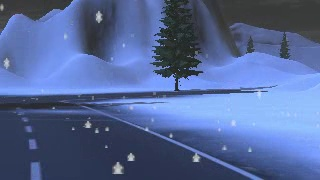Lane: (0, 89, 264, 179)
